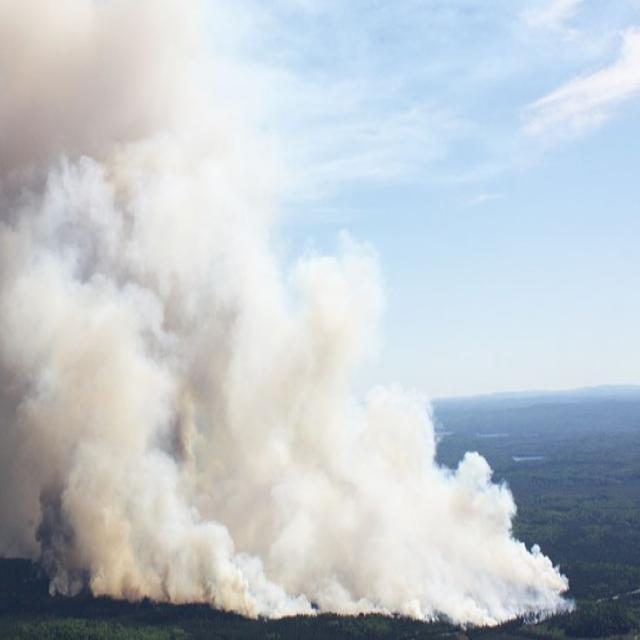Smoke: (0, 132, 575, 616)
